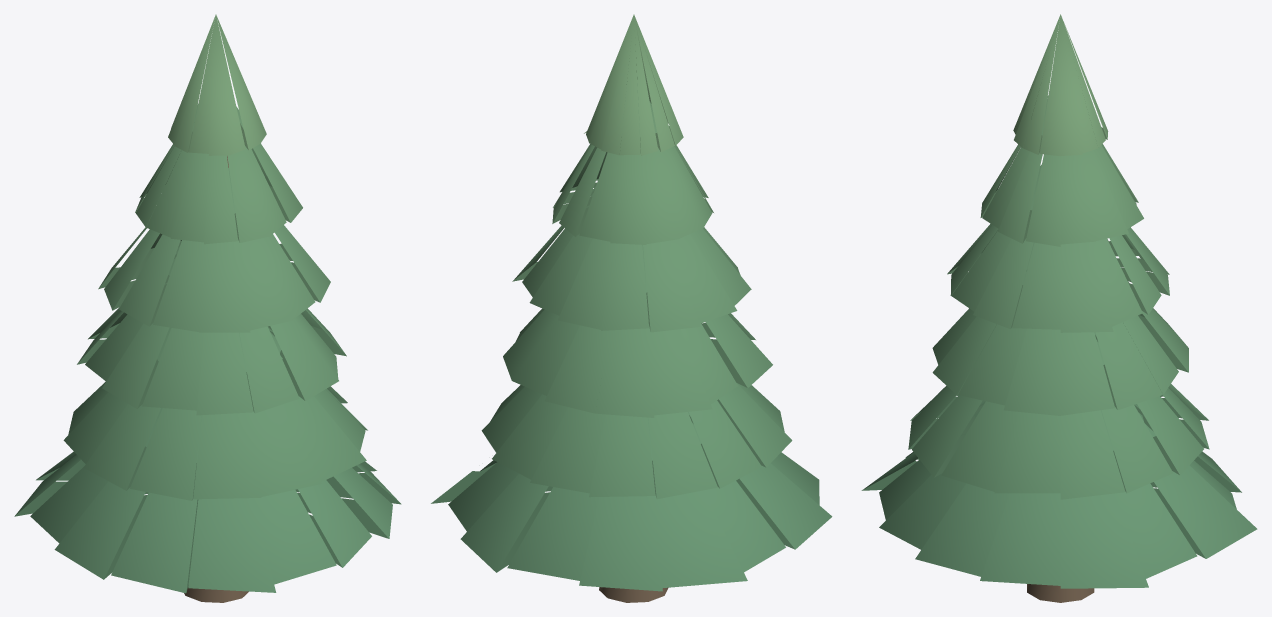
The model's file is pine_tree.glb.
3 views of the same model, side by side, from view 1: azimuth 30°, elevation 25°; view 2: azimuth 150°, elevation 25°; view 3: azimuth 270°, elevation 25° (orthographic).
Parts seen in each view (by area): view 1: tree_pine2; view 2: tree_pine2; view 3: tree_pine2.
Part boxes in pixels (<box>): tree_pine2: <box>14,14,401,602</box>; tree_pine2: <box>431,14,832,602</box>; tree_pine2: <box>861,14,1257,602</box>.
Size of the model in its own units: 5.41 by 9.2 by 5.76.
